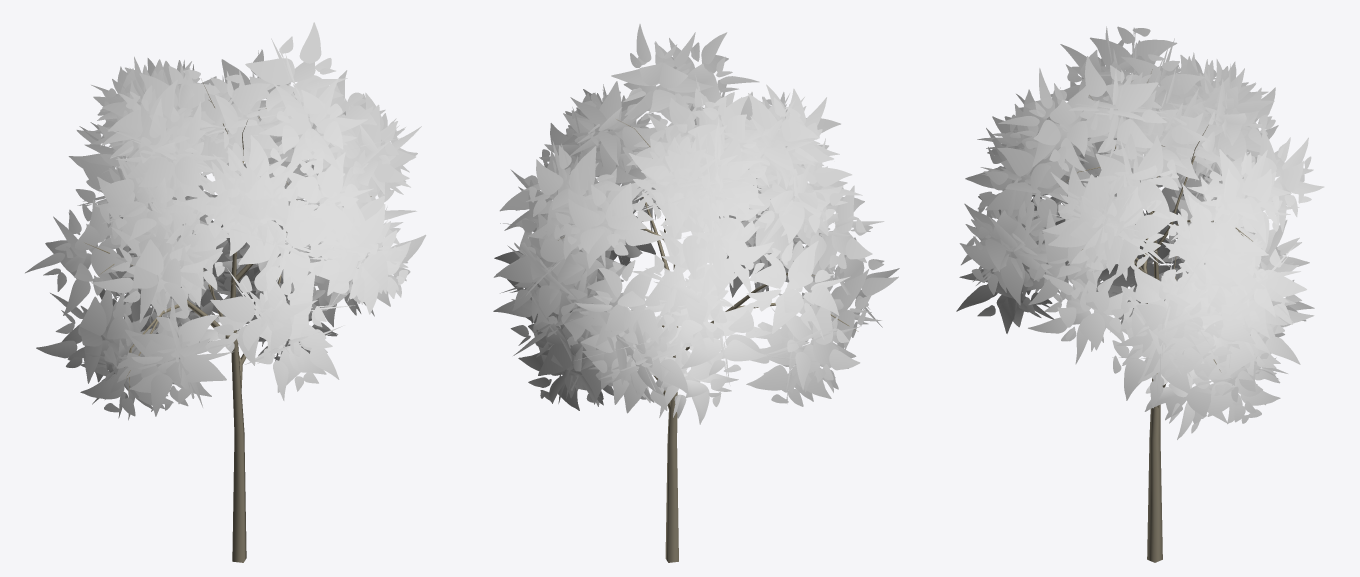
The model's file is NormalTree_LOD2.fbx.
3 views of the same model, side by side, from view 1: azimuth 30°, elevation 25°; view 2: azimuth 150°, elevation 25°; view 3: azimuth 270°, elevation 25° (orthographic). The views are drawn at different scales.
Visible parts, largest first — view 1: Leaf_LOD2, Trunk_LOD2; view 2: Leaf_LOD2, Trunk_LOD2; view 3: Leaf_LOD2, Trunk_LOD2.
Boxes of the visible parts, x1,y1,x2,y2 form: Leaf_LOD2: (25,22,426,420); Trunk_LOD2: (84,79,371,562); Leaf_LOD2: (493,24,899,424); Trunk_LOD2: (558,119,858,562); Leaf_LOD2: (956,26,1324,439); Trunk_LOD2: (1059,69,1252,562).
Size of the model in its own units: 535 by 735 by 518.
